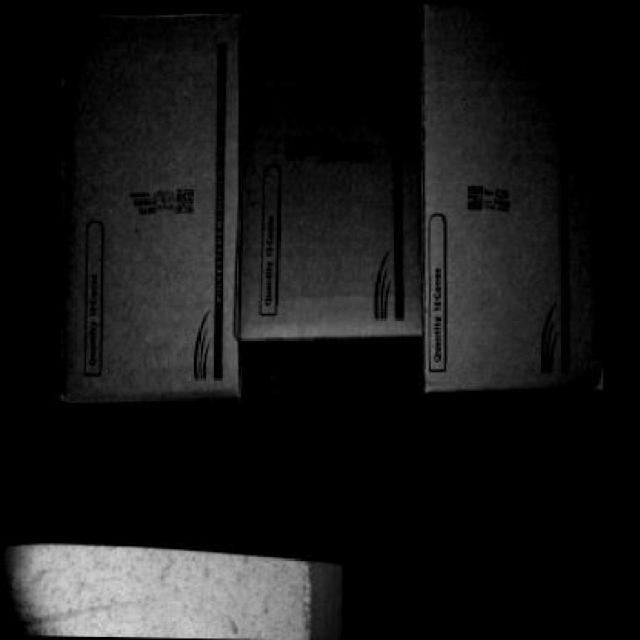cardboxes: (418, 6, 618, 397), (61, 8, 247, 400), (248, 3, 422, 339)
